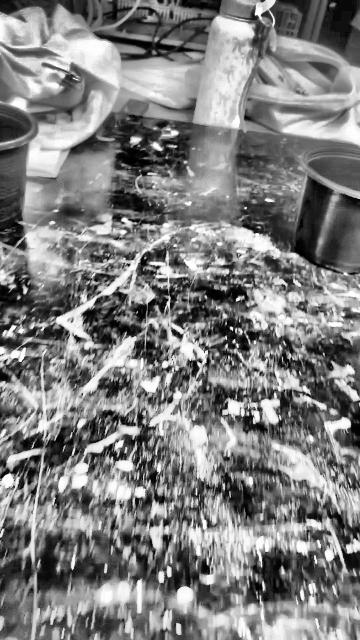pot: (293, 143, 360, 278), (0, 103, 37, 230)
